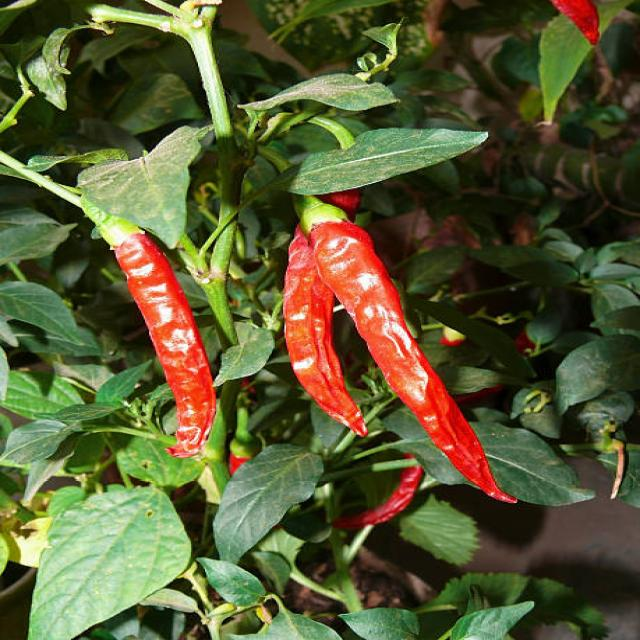Ripe: (310, 226, 520, 504), (113, 224, 216, 459), (284, 225, 365, 434)
